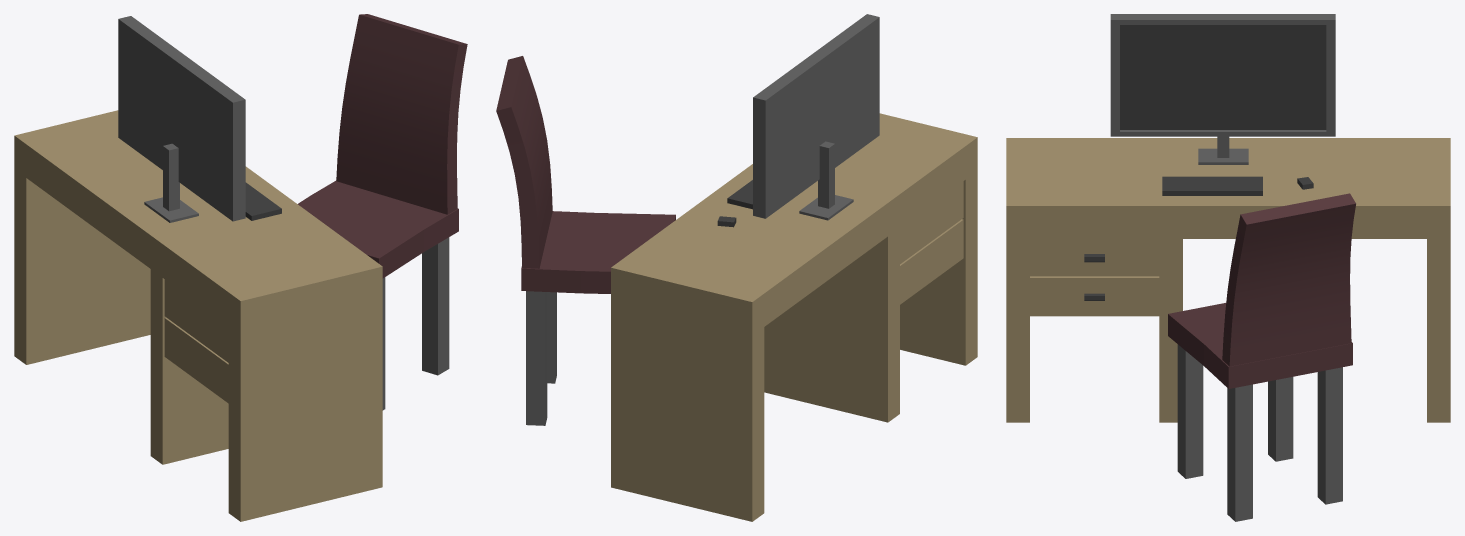
File: Computer.fbx
3 views of the same model, side by side, from view 1: azimuth 30°, elevation 25°; view 2: azimuth 150°, elevation 25°; view 3: azimuth 270°, elevation 25° (orthographic).
Parts seen in each view (by area): view 1: Computer; view 2: Computer; view 3: Computer.
Boxes of the visible parts, left/top/right/bottom form: Computer: left=14, top=14, right=467, bottom=521; Computer: left=496, top=14, right=977, bottom=521; Computer: left=1006, top=14, right=1450, bottom=521.
Size of the model in its own units: 61.33 by 63.89 by 68.83.
